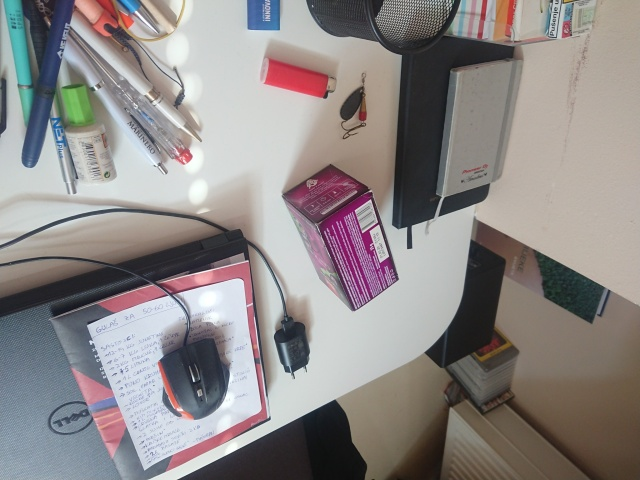Franck Black Currant Tea 60g: (280, 161, 401, 313)
